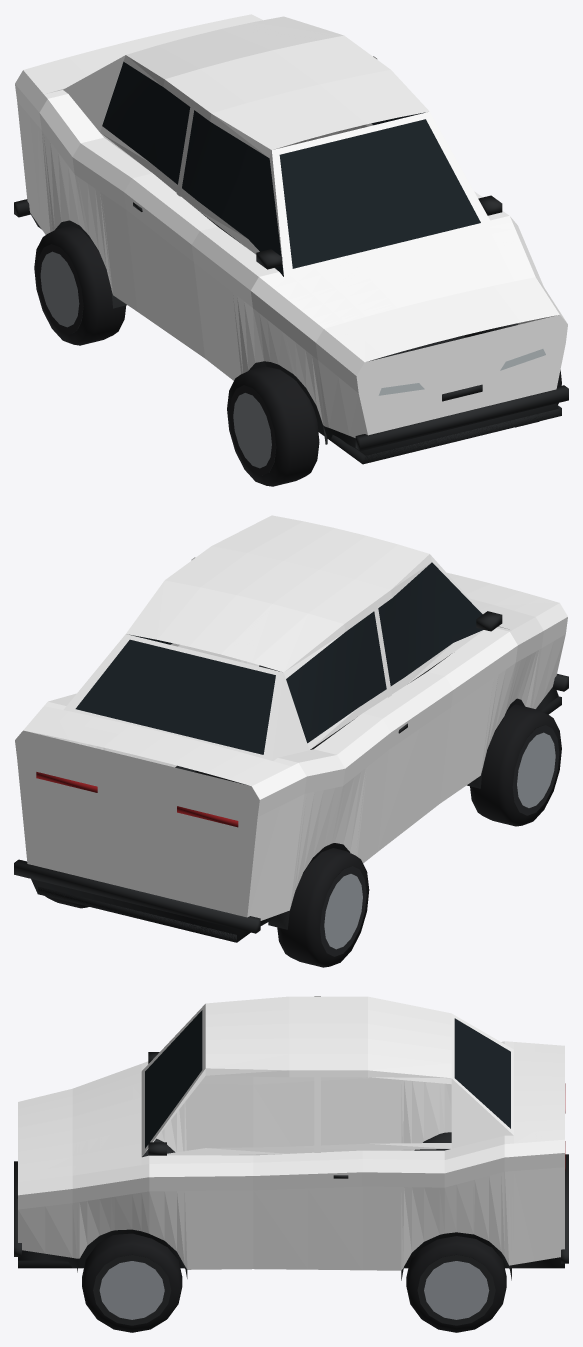
File: kosame_moita.glb
3 renders of one model, top to bottom at view 1: azimuth 30°, elevation 25°; view 2: azimuth 150°, elevation 25°; view 3: azimuth 270°, elevation 25°, orthographic. The views are drawn at different scales.
Visible parts, largest first — view 1: Body_Paint, Body_Details, Mount_FrontLeft_Wheel_Details, Mount_RearLeft_Wheel_Details; view 2: Body_Paint, Body_Details, Mount_FrontLeft_Wheel_Details, Mount_RearLeft_Wheel_Details; view 3: Body_Paint, Body_Details, Mount_FrontRight_Wheel_Details, Mount_RearRight_Wheel_Details.
Part boxes in pixels (x1,y1,x2,y2): Body_Paint: (15, 14, 567, 437); Body_Details: (14, 61, 568, 464); Mount_FrontLeft_Wheel_Details: (227, 366, 319, 486); Mount_RearLeft_Wheel_Details: (34, 225, 126, 345); Body_Paint: (15, 515, 567, 920); Body_Details: (14, 562, 568, 942); Mount_FrontLeft_Wheel_Details: (470, 704, 561, 826); Mount_RearLeft_Wheel_Details: (277, 848, 369, 967); Body_Paint: (18, 996, 564, 1270); Body_Details: (14, 1010, 568, 1280); Mount_FrontRight_Wheel_Details: (82, 1233, 182, 1332); Mount_RearRight_Wheel_Details: (406, 1236, 506, 1332).
Size of the model in its own units: 1.9 by 1.87 by 3.82.
Materials: 2 (1 with a texture image).
